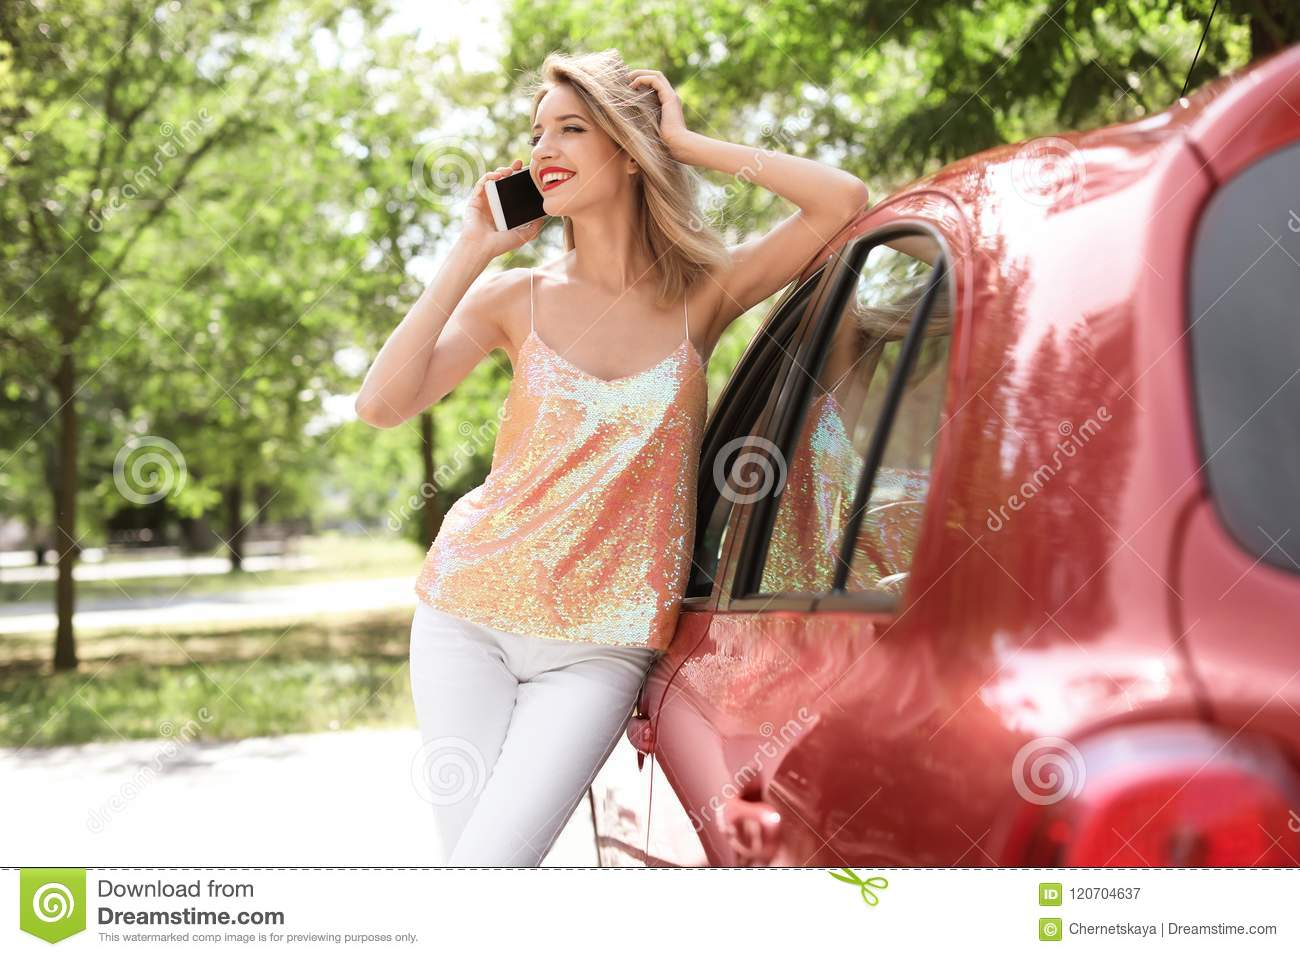phone: (488, 169, 543, 237)
talk: (460, 103, 601, 242)
